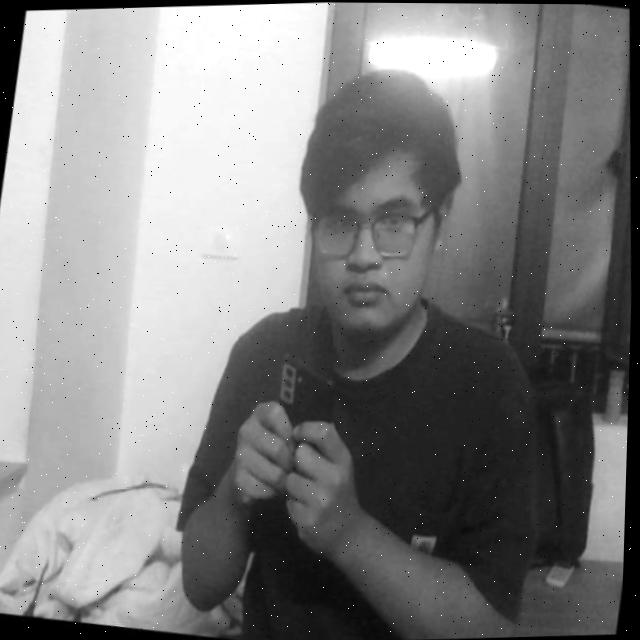phone: (235, 334, 365, 533)
